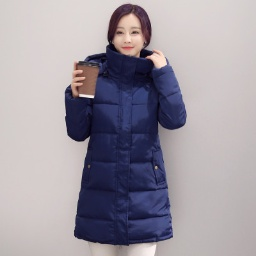face: (105, 3, 153, 59)
